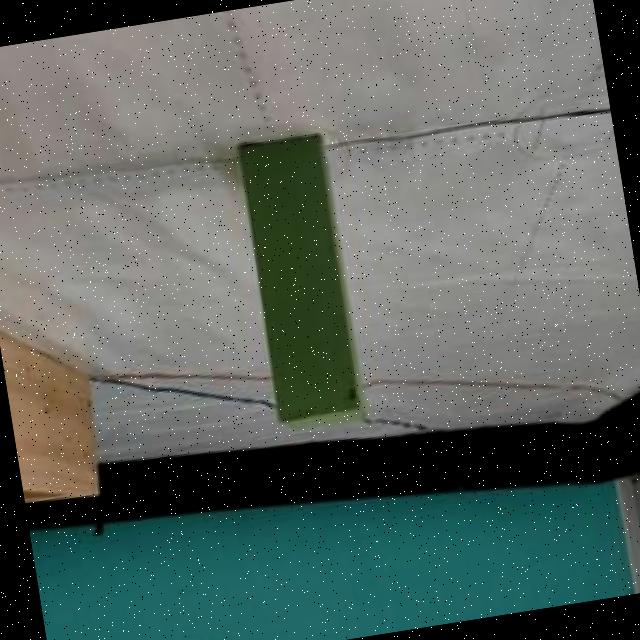greenbox: (232, 132, 364, 424)
